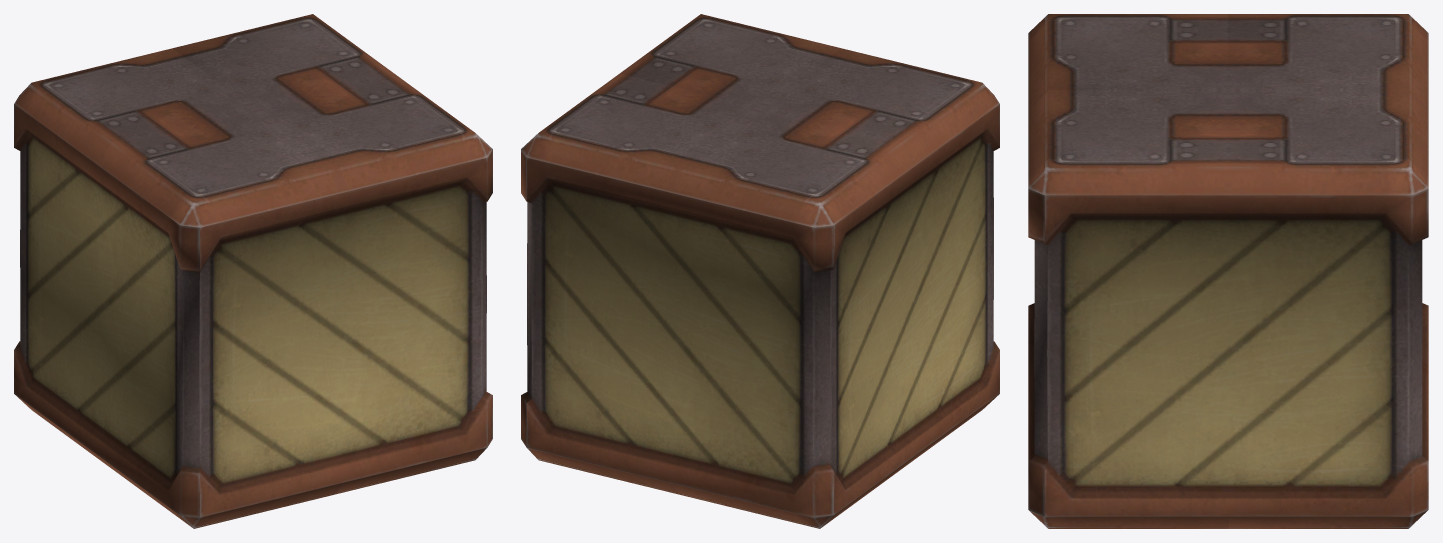
File: bolt_crate.glb
3 renders of one model, left to right at view 1: azimuth 30°, elevation 25°; view 2: azimuth 150°, elevation 25°; view 3: azimuth 270°, elevation 25°, orthographic. The views are drawn at different scales.
Visible parts, largest first — view 1: Mesh_1_Mesh_1_mesh0000.005; view 2: Mesh_1_Mesh_1_mesh0000.005; view 3: Mesh_1_Mesh_1_mesh0000.005.
Part boxes in pixels (x1,y1,x2,y2): Mesh_1_Mesh_1_mesh0000.005: (14,14,492,528); Mesh_1_Mesh_1_mesh0000.005: (521,14,999,528); Mesh_1_Mesh_1_mesh0000.005: (1028,14,1428,528).
Size of the model in its own units: 0.986 by 0.9859 by 0.986.
Materials: 2 (2 with a texture image).
